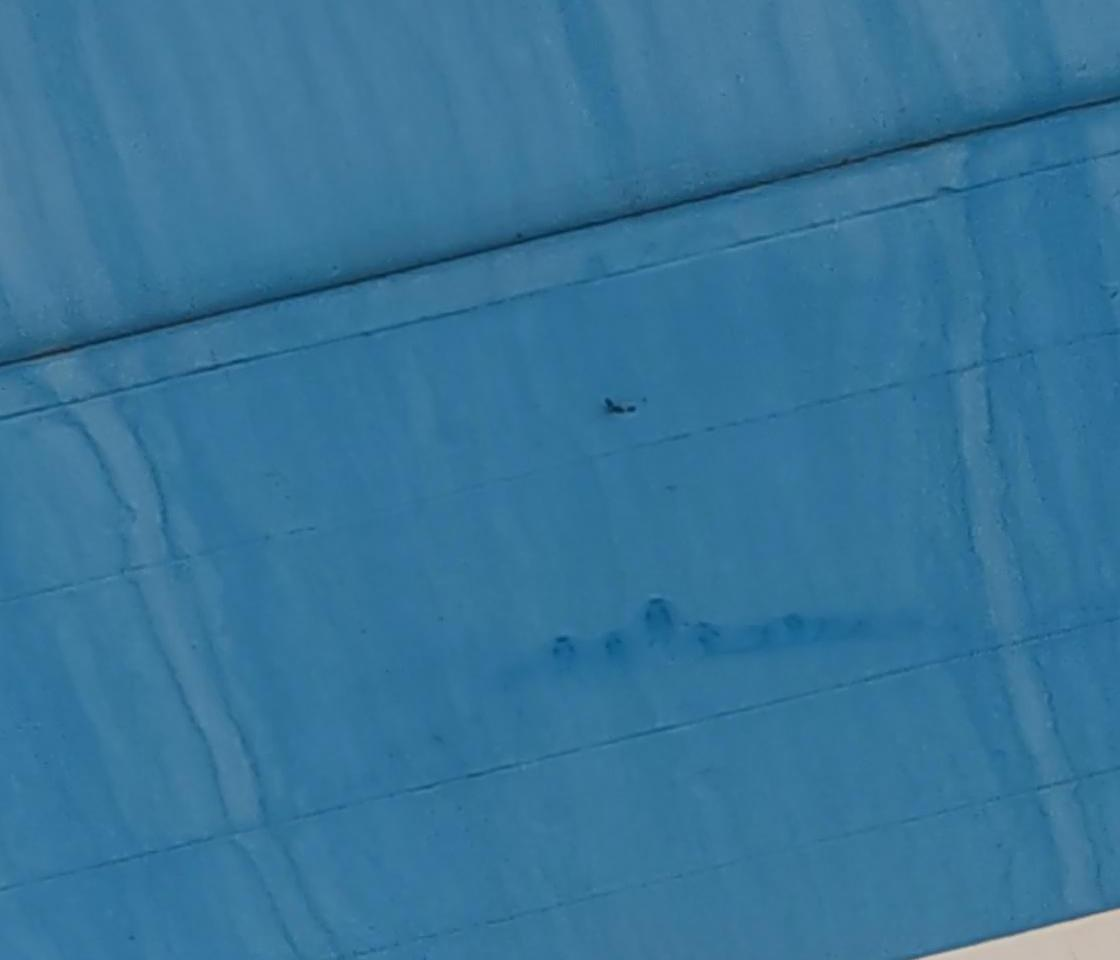scratch: (596, 393, 653, 419)
